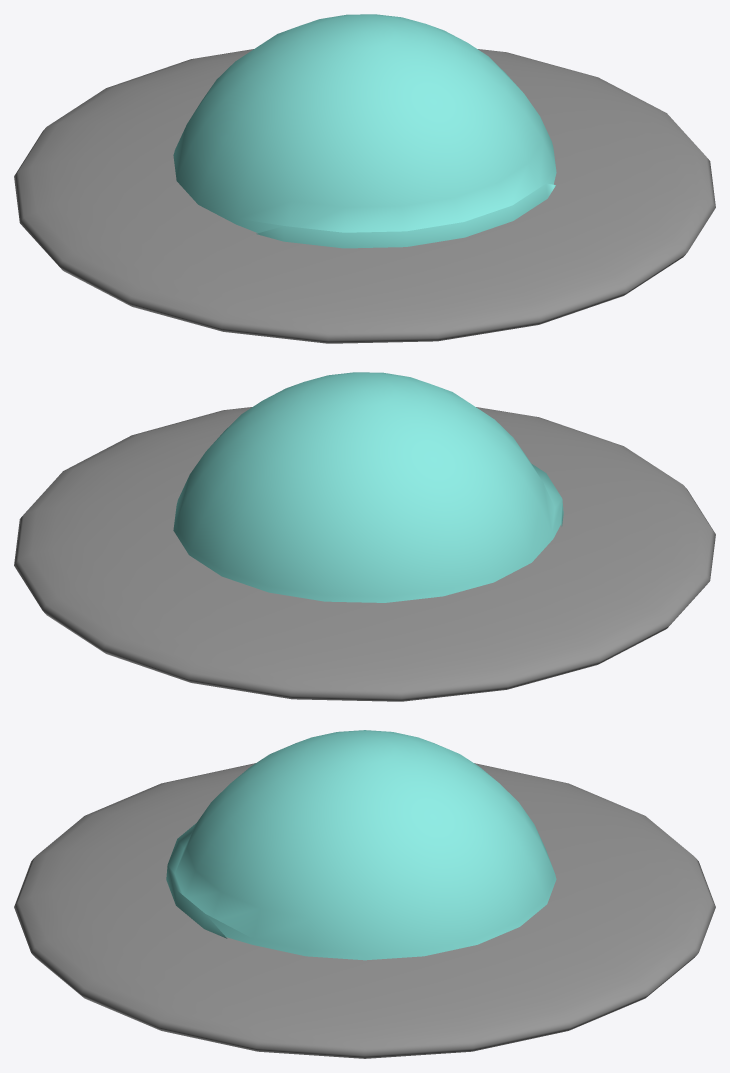
The model's file is UFO.fbx.
3 views of the same model, one above another, from view 1: azimuth 30°, elevation 25°; view 2: azimuth 150°, elevation 25°; view 3: azimuth 270°, elevation 25° (orthographic).
Visible parts, largest first — view 1: pSphere1, pSphere2; view 2: pSphere1, pSphere2; view 3: pSphere1, pSphere2.
Part boxes in pixels (left/top/right/bottom): pSphere1: left=14, top=49, right=715, bottom=343; pSphere2: left=173, top=14, right=556, bottom=248; pSphere1: left=14, top=407, right=715, bottom=701; pSphere2: left=173, top=372, right=563, bottom=602; pSphere1: left=14, top=763, right=715, bottom=1058; pSphere2: left=166, top=730, right=556, bottom=960.
Bounding box in the file's own units: 19.08 × 6.8 × 19.08.
